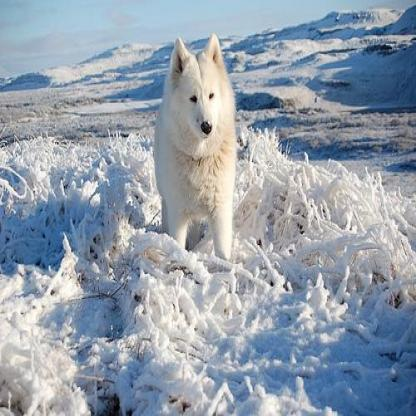Samoyed: (148, 34, 233, 259)
